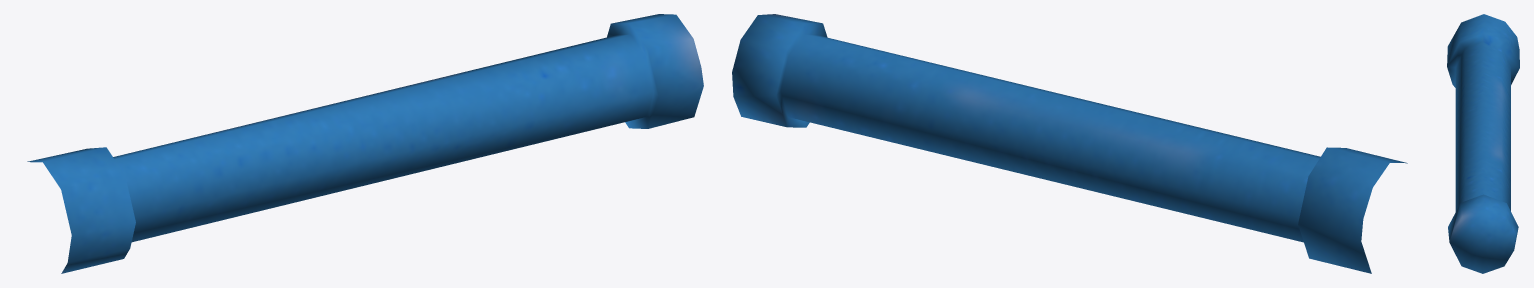
The model's file is pipe_straight.glb.
The picture shows the model from 3 angles, left to right: view 1: azimuth 30°, elevation 25°; view 2: azimuth 150°, elevation 25°; view 3: azimuth 270°, elevation 25°; orthographic projection. The views are drawn at different scales.
Parts seen in each view (by area): view 1: mesh_node; view 2: mesh_node; view 3: mesh_node.
Part boxes in pixels (x1,y1,x2,y2): mesh_node: (27,14,703,273); mesh_node: (732,14,1407,273); mesh_node: (1447,14,1519,273).
Bounding box in the file's own units: 1.19 × 0.2 × 0.191.
1 material, 1 textured.
